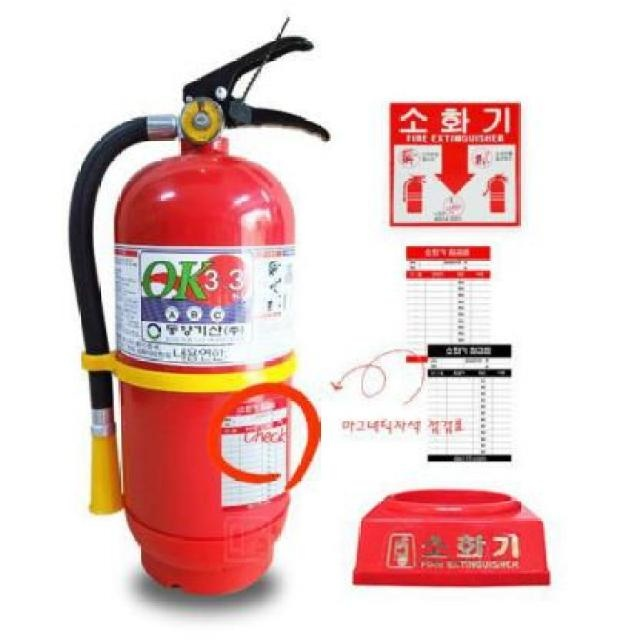fire extinguisher: (68, 34, 330, 597)
